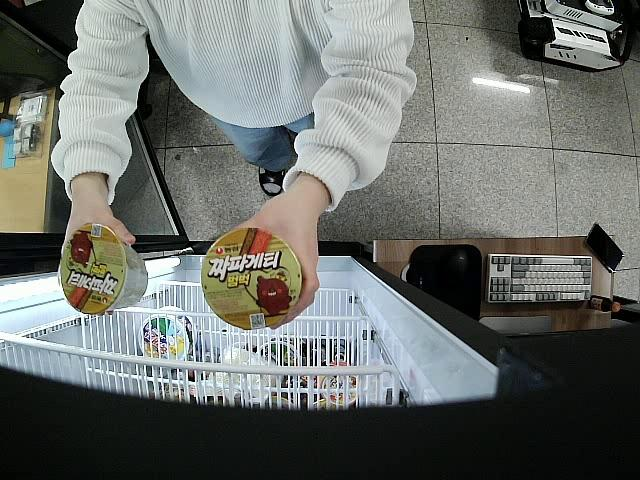00_hand: (231, 198, 320, 331), (61, 196, 136, 249)
04_chapagetti_S: (201, 226, 304, 331), (58, 224, 149, 315)
